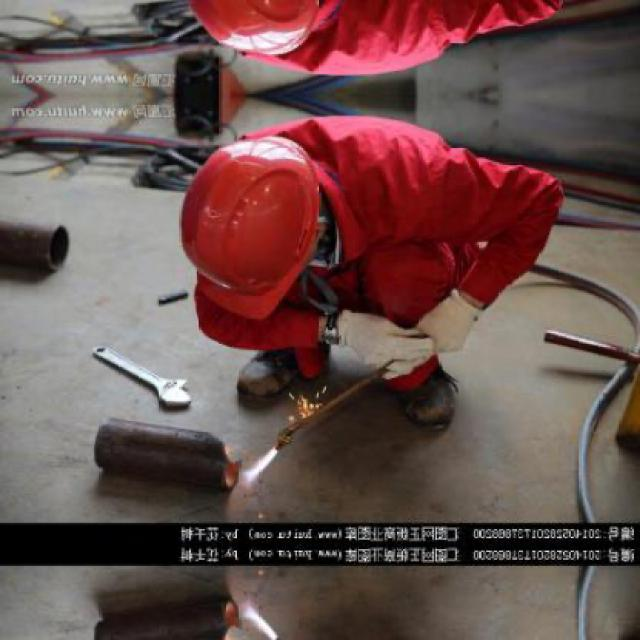helmet: (168, 131, 350, 335), (168, 0, 352, 62)
